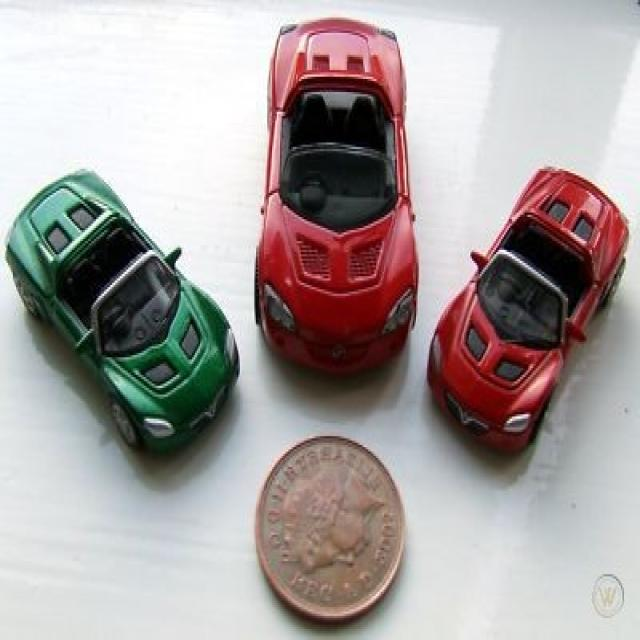Car: (5, 166, 242, 454), (254, 13, 421, 377), (428, 164, 630, 454)
